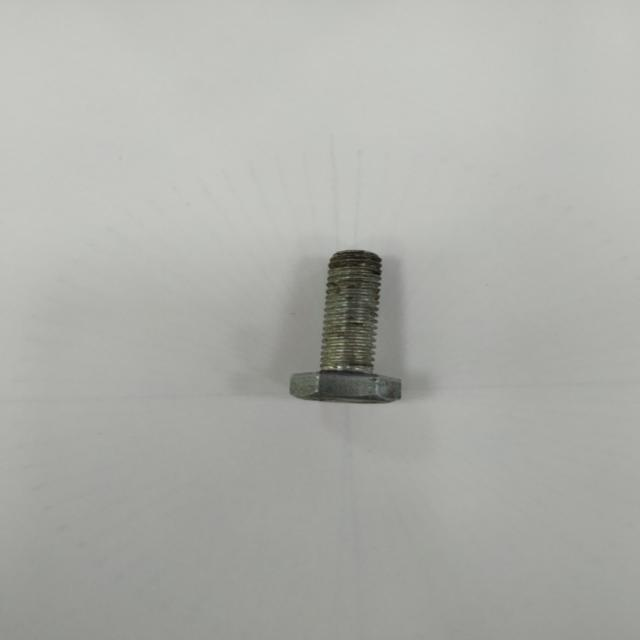Bolt: (290, 250, 402, 402)
